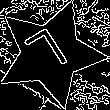L_SE: (23, 24, 78, 83)
